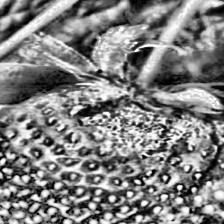Gray Mold: (0, 68, 224, 200)
